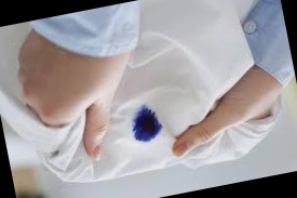ink: (131, 107, 163, 143)
